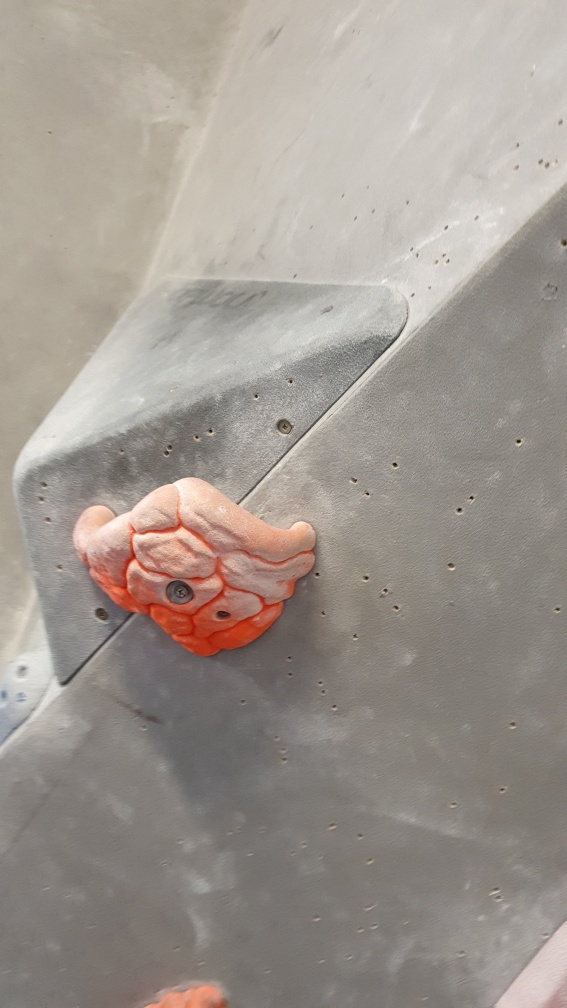Jug: (67, 475, 320, 660)
